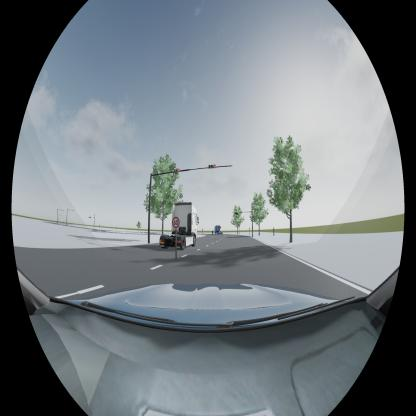Green Light: (234, 212, 240, 216)
Red Light: (209, 164, 216, 169)
Speed Limit 60: (172, 216, 180, 228)
